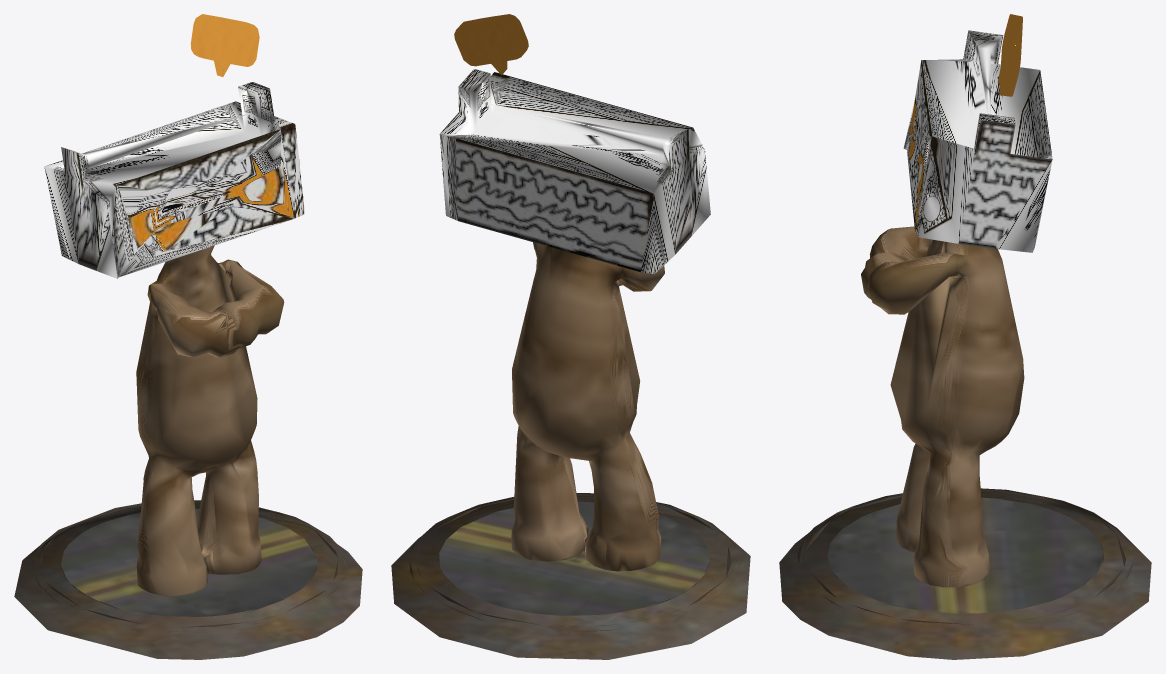
3 views of the same model, side by side, from view 1: azimuth 30°, elevation 25°; view 2: azimuth 150°, elevation 25°; view 3: azimuth 270°, elevation 25° (orthographic). The views are drawn at different scales.
Size of the model in its own units: 1.44 by 2.45 by 1.41.
Materials: 5 (5 with a texture image).
